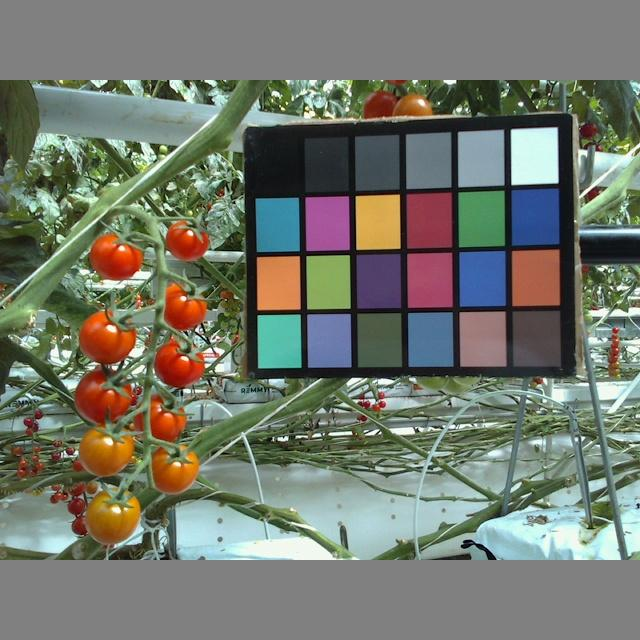pink: (72, 369, 133, 424), (81, 309, 135, 361), (84, 492, 139, 542), (78, 426, 131, 475), (88, 232, 142, 280), (151, 343, 206, 390), (146, 445, 202, 491), (131, 396, 187, 442), (156, 278, 206, 329), (163, 221, 210, 261)
